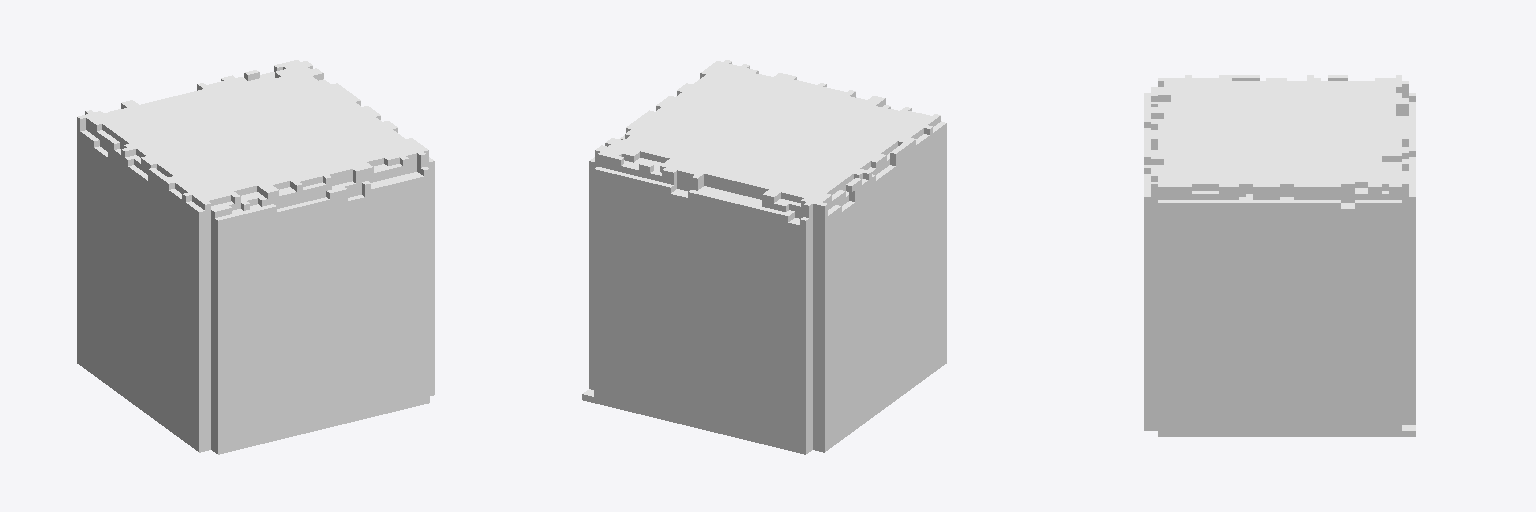
Rendered from buttonPressed.obj.
3 renders of one model, left to right at view 1: azimuth 30°, elevation 25°; view 2: azimuth 150°, elevation 25°; view 3: azimuth 270°, elevation 25°, orthographic.
Visible parts, largest first — view 1: object 1; view 2: object 1; view 3: object 1.
Boxes of the visible parts, x1,y1,x2,y2 form: object 1: [77, 60, 434, 454]; object 1: [582, 60, 946, 454]; object 1: [1144, 75, 1415, 436].
Size of the model in its own units: 4 by 4 by 4.